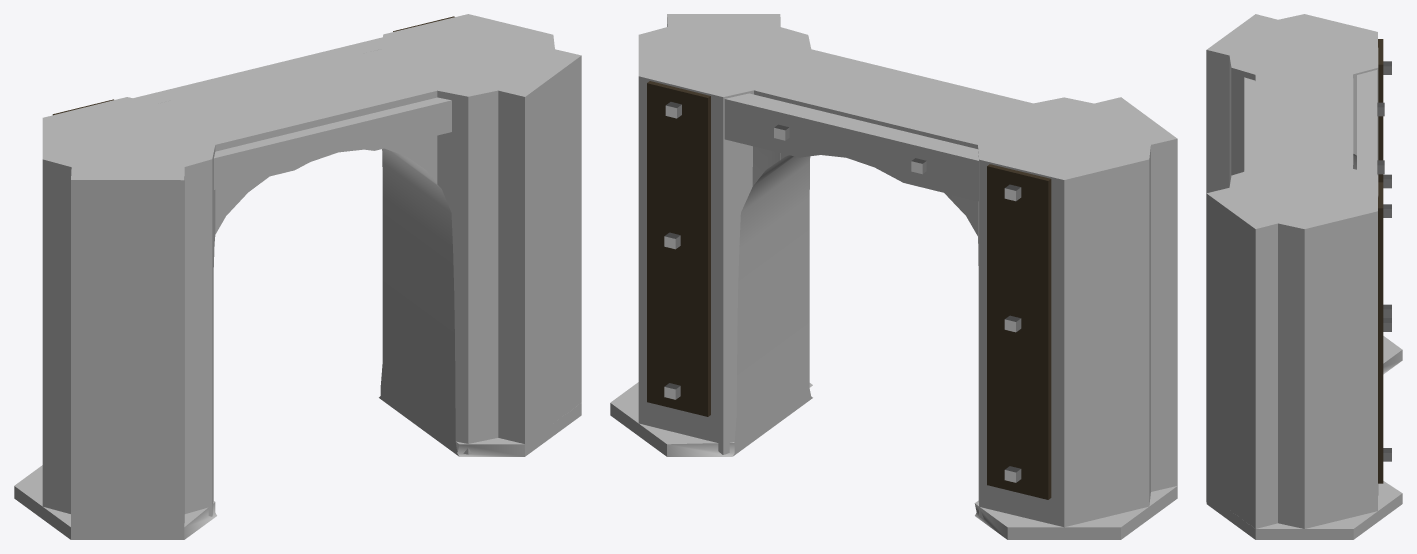
Rendered from vs-fortress-arch.glb.
The picture shows the model from 3 angles, left to right: view 1: azimuth 30°, elevation 25°; view 2: azimuth 150°, elevation 25°; view 3: azimuth 270°, elevation 25°; orthographic projection. The views are drawn at different scales.
Visible parts, largest first — view 1: VsFortressArch_tile; view 2: VsFortressArch_tile, VsFortressArch_fer, VsFortressArch_boulon; view 3: VsFortressArch_tile, VsFortressArch_fer, VsFortressArch_boulon.
Boxes of the visible parts, x1,y1,x2,y2 form: VsFortressArch_tile: (14, 14, 581, 539); VsFortressArch_tile: (610, 14, 1177, 539); VsFortressArch_fer: (647, 81, 1051, 499); VsFortressArch_boulon: (664, 102, 1021, 482); VsFortressArch_tile: (1206, 14, 1402, 539); VsFortressArch_fer: (1378, 39, 1383, 483); VsFortressArch_boulon: (1377, 61, 1391, 461).
Size of the model in its own units: 5.2 by 3.5 by 2.
